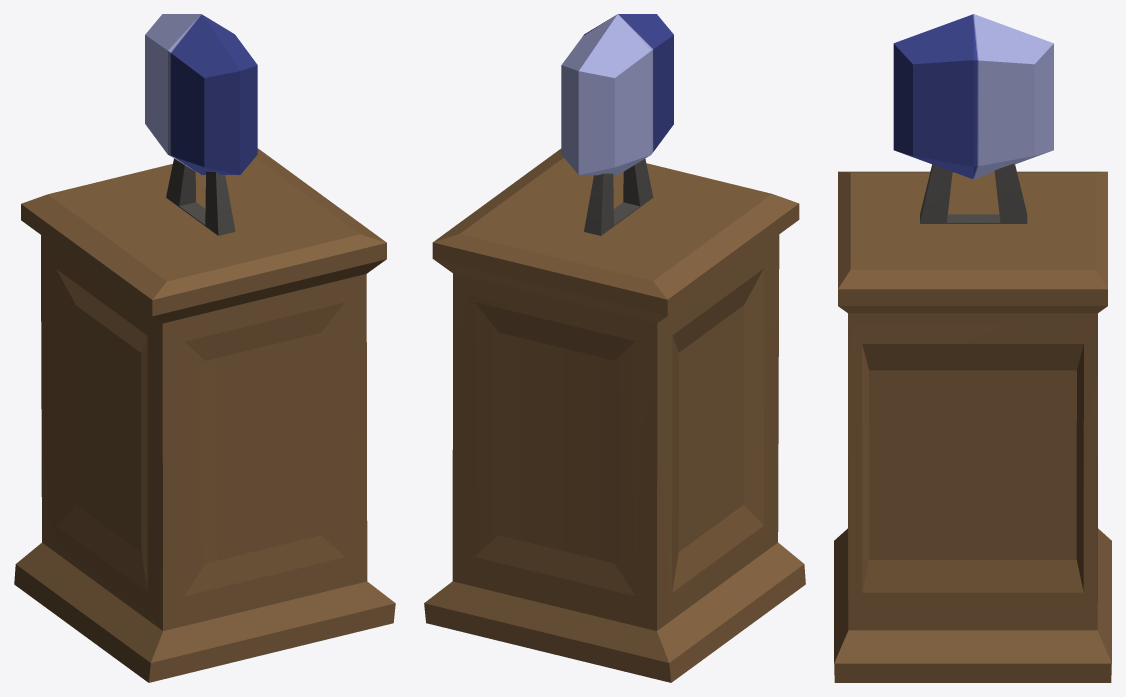
Rendered from gem 1 display.fbx.
3 renders of one model, left to right at view 1: azimuth 30°, elevation 25°; view 2: azimuth 150°, elevation 25°; view 3: azimuth 270°, elevation 25°, orthographic. The views are drawn at different scales.
Parts seen in each view (by area): view 1: pCube66, pCube73, pCube72; view 2: pCube66, pCube73, pCube72; view 3: pCube66, pCube73, pCube72.
Part boxes in pixels (bbox=[...]): pCube66: bbox=[14, 148, 395, 682]; pCube73: bbox=[145, 14, 257, 174]; pCube72: bbox=[166, 158, 235, 235]; pCube66: bbox=[424, 148, 805, 682]; pCube73: bbox=[561, 14, 673, 175]; pCube72: bbox=[584, 159, 653, 235]; pCube66: bbox=[834, 171, 1111, 682]; pCube73: bbox=[893, 14, 1053, 179]; pCube72: bbox=[920, 163, 1027, 223].
Bounding box in the file's own units: 1.86 × 4.25 × 1.76.
